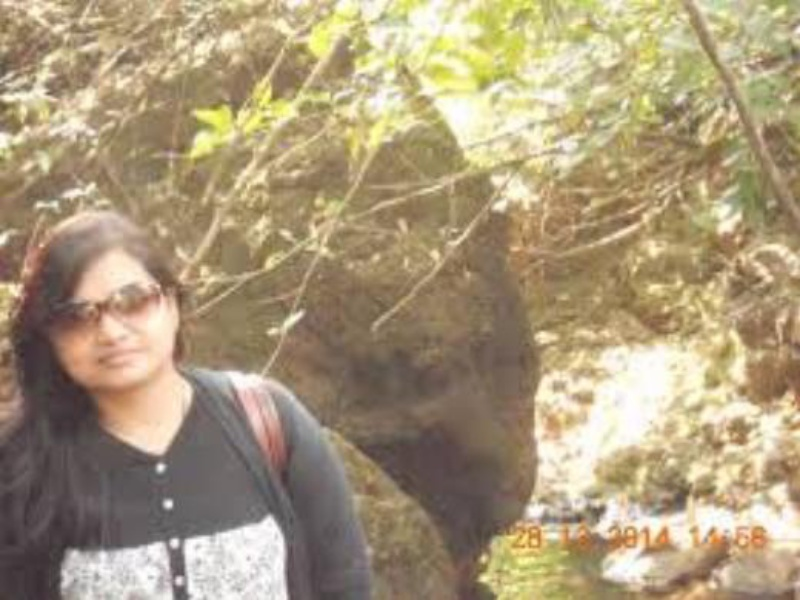TsisyArotava: (29, 219, 213, 421)
